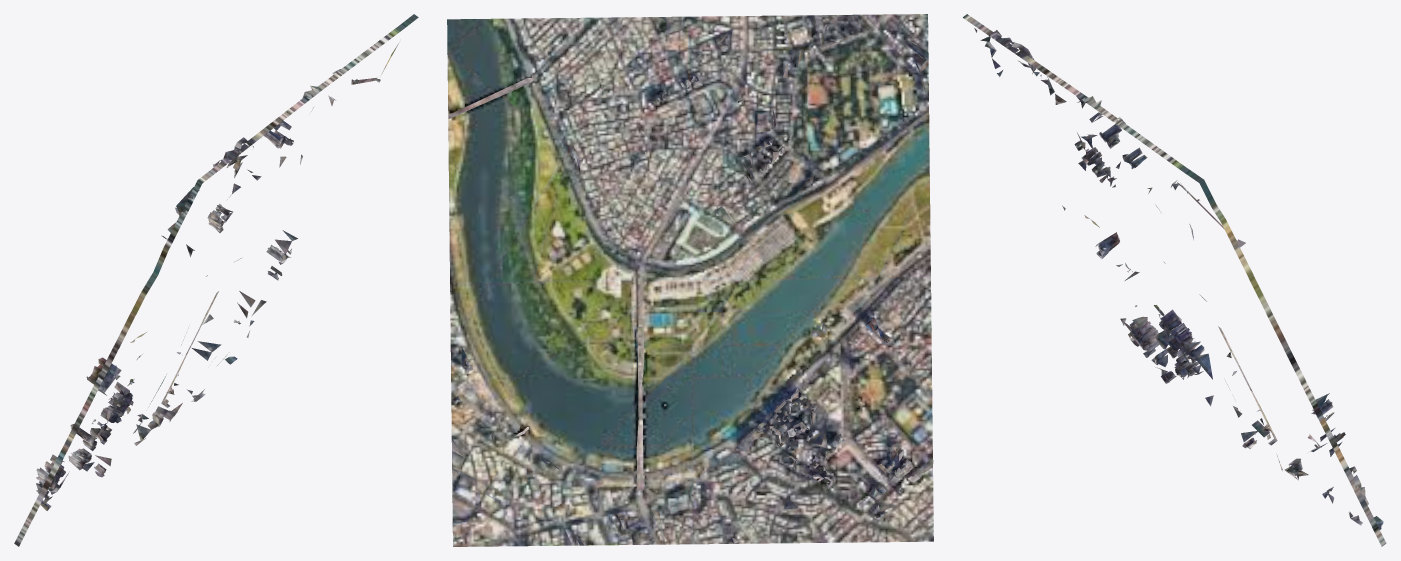
The picture shows the model from 3 angles, left to right: view 1: azimuth 30°, elevation 25°; view 2: azimuth 150°, elevation 25°; view 3: azimuth 270°, elevation 25°; orthographic projection. The views are drawn at different scales.
Bounding box in the file's own units: 2449 × 2232 × 2061.
Materials: 1 (1 with a texture image).
